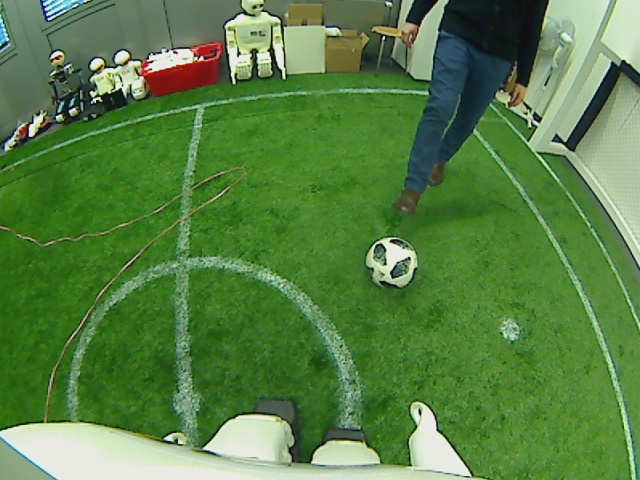ball: (364, 234, 418, 288)
